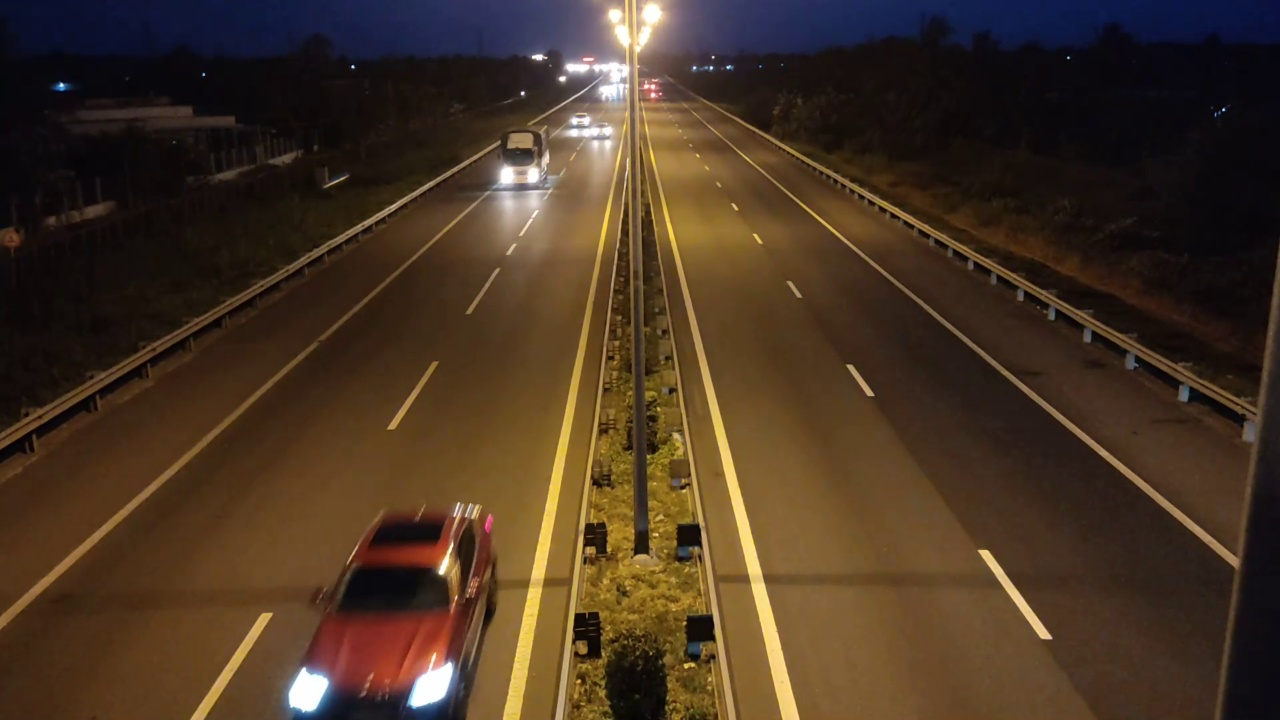car: (285, 501, 499, 719)
truck: (493, 122, 550, 194)
